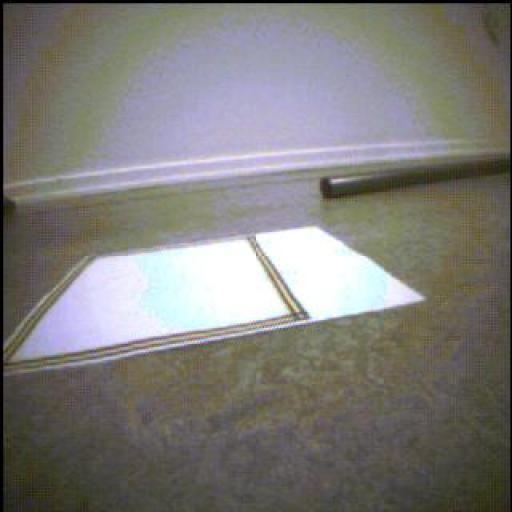Pad: (5, 228, 424, 374)
